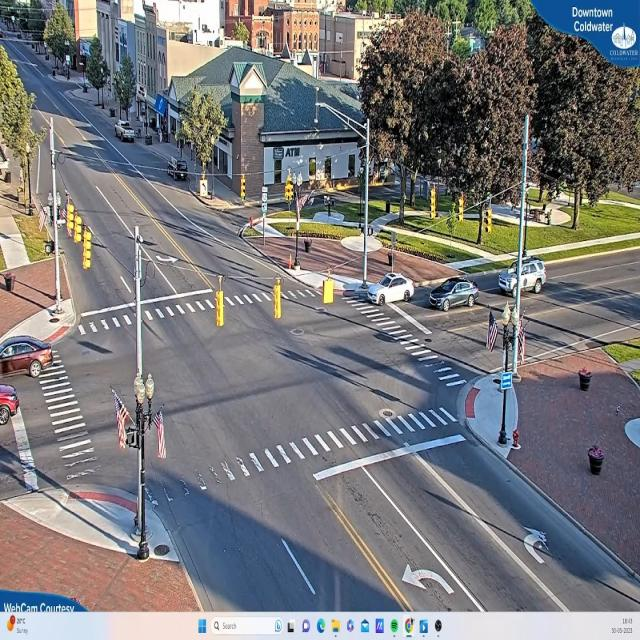car: (0, 334, 54, 378), (497, 257, 546, 298), (430, 279, 480, 310), (369, 274, 416, 304), (1, 382, 21, 423), (117, 122, 137, 144)
